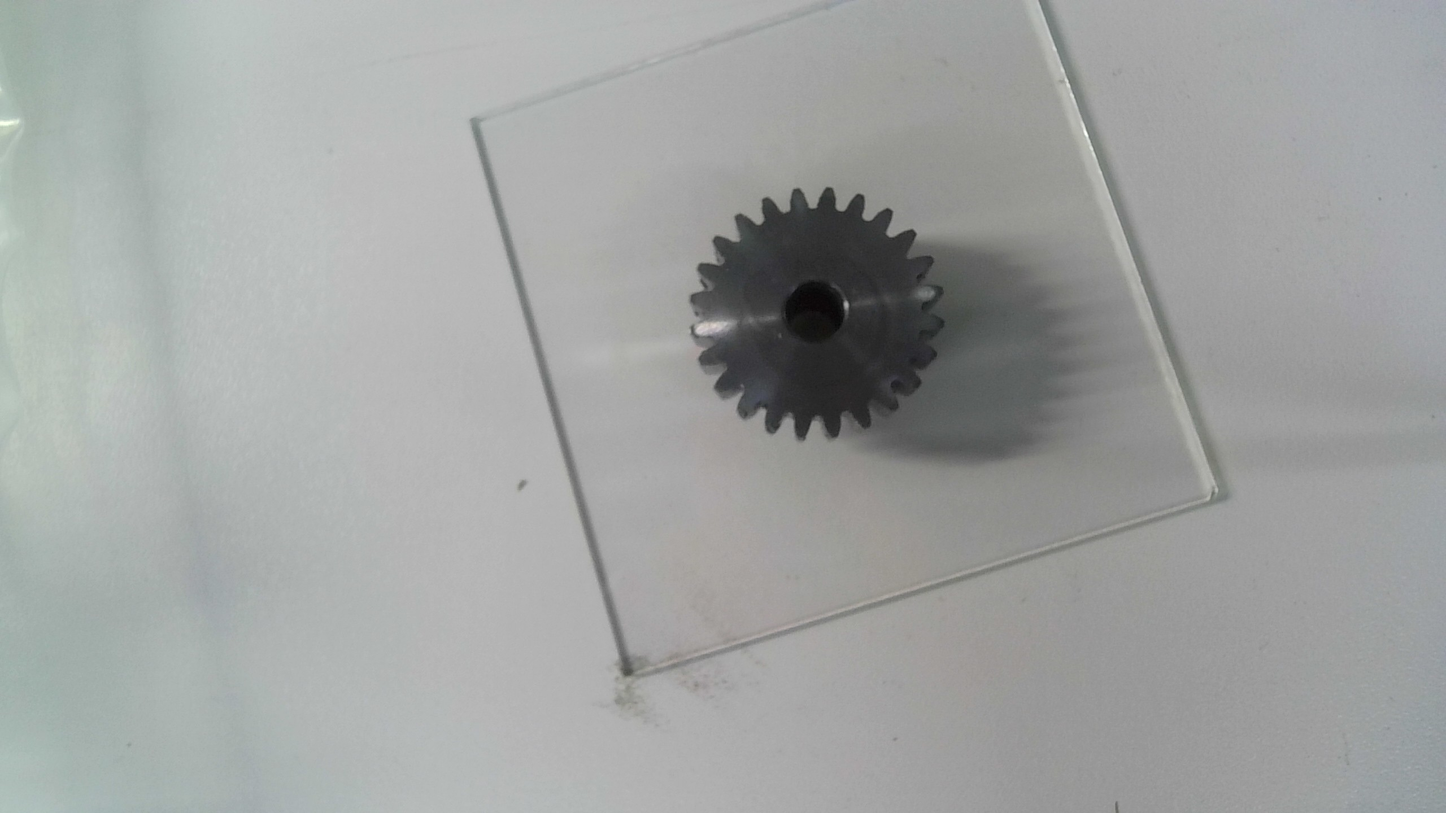gear: (681, 181, 947, 449)
